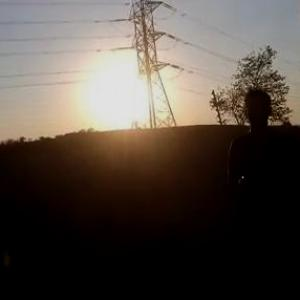follow: (220, 85, 299, 299)
